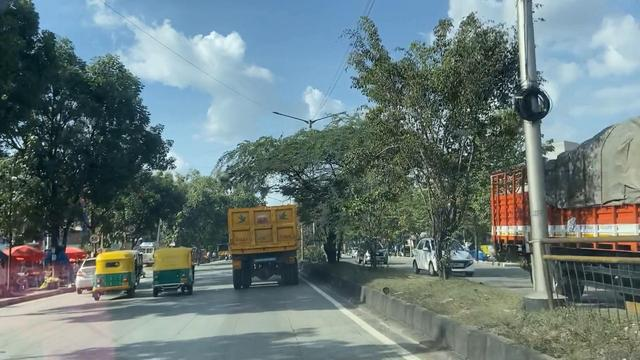HMV: (228, 209, 301, 285)
LMV: (150, 249, 196, 295), (99, 247, 146, 291)
